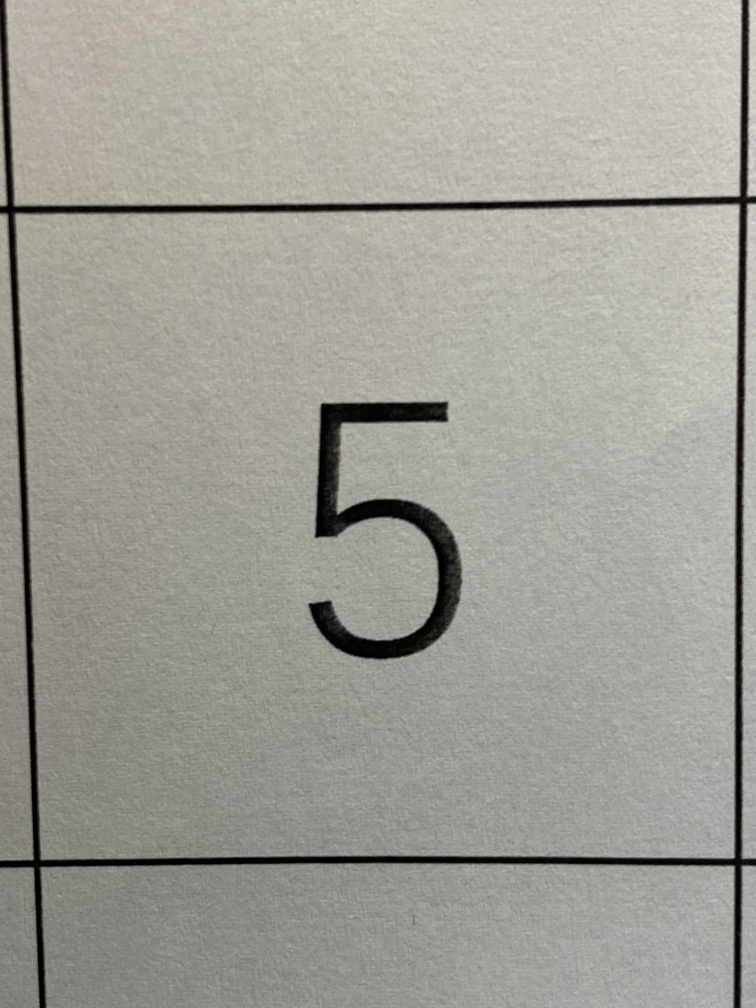five: (234, 336, 527, 720)
